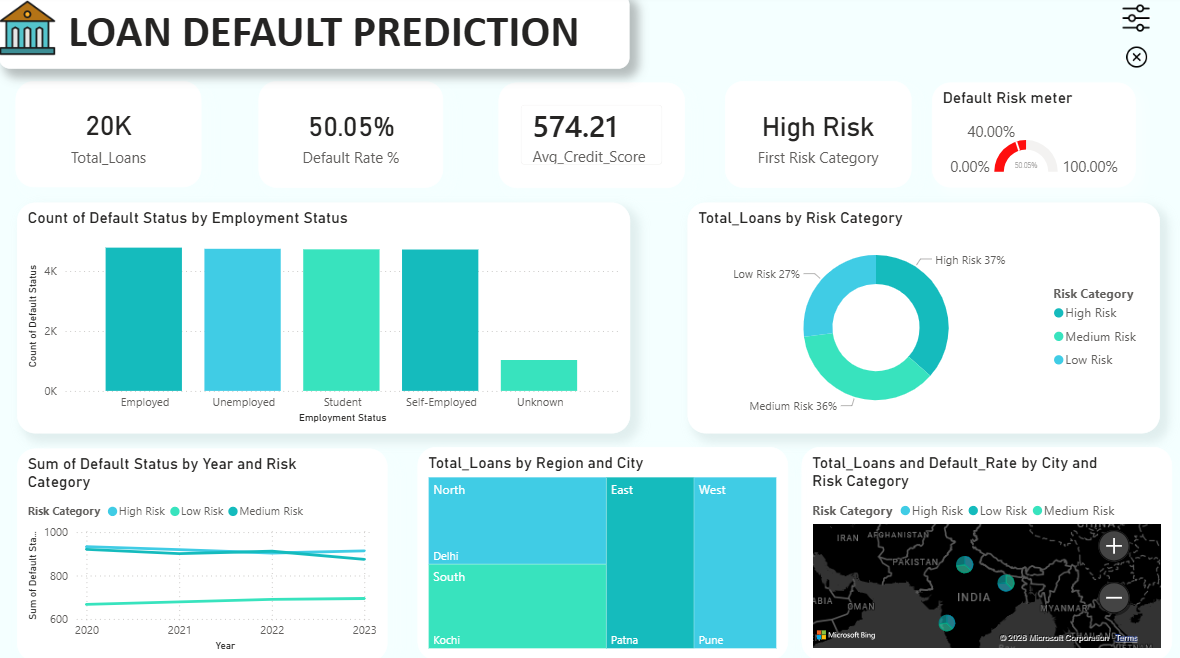

The dashboard page shown, as its layout file describes it:
{"tool":"powerbi","page":{"name":" LOAN DEFAULT DASHBOARD","canvas":[1280,720],"ordinal":0},"visuals":[{"type":"card","fields":{"Values":["Loan_Fact.Total_Loans"]},"box":[17.8,93.9,200.8,115],"z":0,"group":"g1"},{"type":"card","fields":{"Values":["Customer_Dim.Default Rate %"]},"box":[280.2,93.4,199.4,115.5],"z":1000,"group":"g1"},{"type":"donutChart","fields":{"Category":["Loan_Fact.Risk Category"],"Y":["Loan_Fact.Total_Loans"]},"box":[743.2,225.1,510.1,249.4],"z":2000,"group":"g1"},{"type":"cardVisual","fields":{"Data":["Loan_Fact.Avg_Credit_Score"]},"box":[539.8,95,201,114],"z":3000,"group":"g1"},{"type":"card","fields":{"Values":["Min(Loan_Fact.Risk Category)"]},"box":[783.5,93.4,201,115.5],"z":4000,"group":"g1"},{"type":"columnChart","fields":{"Category":["Loan_Fact.Employment Status"],"Y":["CountNonNull(Loan_Fact.Default Status)"]},"box":[19.4,225.1,662.3,249.4],"z":5000,"group":"g1"},{"type":"lineChart","fields":{"Category":["Loan_Fact.Loan Date.Variation.Date Hierarchy.Year"],"Y":["Sum(Loan_Fact.Default Status)"],"Series":["Loan_Fact.Risk Category"]},"box":[19.4,490.6,399.9,229.9],"z":6000,"group":"g1"},{"type":"map","fields":{"Category":["Customer_Dim.Country","Customer_Dim.City"],"Size":["Loan_Fact.Total_Loans"],"Series":["Loan_Fact.Risk Category"]},"box":[866.3,489,399.9,229.9],"z":7000,"group":"g1"},{"type":"treemap","fields":{"Group":["Customer_Dim.Region"],"Details":["Customer_Dim.City"],"Values":["Loan_Fact.Total_Loans"]},"box":[451.8,489,399.9,229.9],"z":8000,"group":"g1"},{"type":"actionButton","box":[1186.9,0,79.3,51.8],"z":9000,"group":"g1"},{"type":"actionButton","box":[1186.9,51.8,79.3,29.1],"z":10000,"group":"g1"},{"type":"textbox","box":[0,0,680.6,80.7],"z":12000,"group":"g1"},{"type":"gauge","title":"Default Risk meter","fields":{"Y":["Customer_Dim.Default Rate %"]},"box":[1007.2,95.5,220.2,113.3],"z":13000,"group":"g1"},{"type":"image","box":[0,6.5,61.5,59.9],"z":14000,"group":"g1"},{"type":"image","box":[1201.5,11.3,51.8,29.1],"z":16500,"group":"g1"},{"type":"image","box":[1203.1,55.1,50.2,25.9],"z":17000,"group":"g1"},{"type":"group","id":"g1","title":"Main_dasgboard_Element","box":[0,0,1274.3,720.6],"z":17501}]}

Visuals, with their boxes in screenshot pixels (x1, y1, x2, y2), scaled from the page's 1280x720 canvas onto the 1180x658 screenshot:
card - Loan_Fact.Total_Loans: [left=16, top=86, right=202, bottom=191]
card - Customer_Dim.Default Rate %: [left=258, top=85, right=442, bottom=191]
donutChart - Loan_Fact.Risk Category x Loan_Fact.Total_Loans: [left=685, top=206, right=1155, bottom=434]
cardVisual - Loan_Fact.Avg_Credit_Score: [left=498, top=87, right=683, bottom=191]
card - Min(Loan_Fact.Risk Category): [left=722, top=85, right=908, bottom=191]
columnChart - Loan_Fact.Employment Status x CountNonNull(Loan_Fact.Default Status): [left=18, top=206, right=628, bottom=434]
lineChart - Loan_Fact.Loan Date.Variation.Date Hierarchy.Year x Sum(Loan_Fact.Default Status): [left=18, top=448, right=387, bottom=657]
map - Customer_Dim.Country x Customer_Dim.City: [left=799, top=447, right=1167, bottom=657]
treemap - Customer_Dim.Region x Customer_Dim.City: [left=417, top=447, right=785, bottom=657]
actionButton: [left=1094, top=0, right=1167, bottom=47]
actionButton: [left=1094, top=47, right=1167, bottom=74]
textbox: [left=0, top=0, right=627, bottom=74]
"Default Risk meter" gauge: [left=929, top=87, right=1132, bottom=191]
image: [left=0, top=6, right=57, bottom=61]
image: [left=1108, top=10, right=1155, bottom=37]
image: [left=1109, top=50, right=1155, bottom=74]
"Main_dasgboard_Element" group: [left=0, top=0, right=1175, bottom=657]
